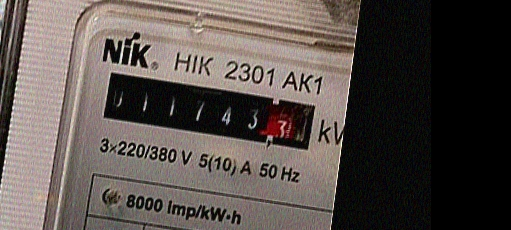0: (110, 81, 127, 110)
1: (137, 85, 154, 115), (164, 90, 181, 119)
3: (244, 104, 262, 133), (272, 118, 290, 141)
4: (219, 102, 236, 128)
7: (191, 96, 208, 123)
screen: (94, 66, 326, 159)
